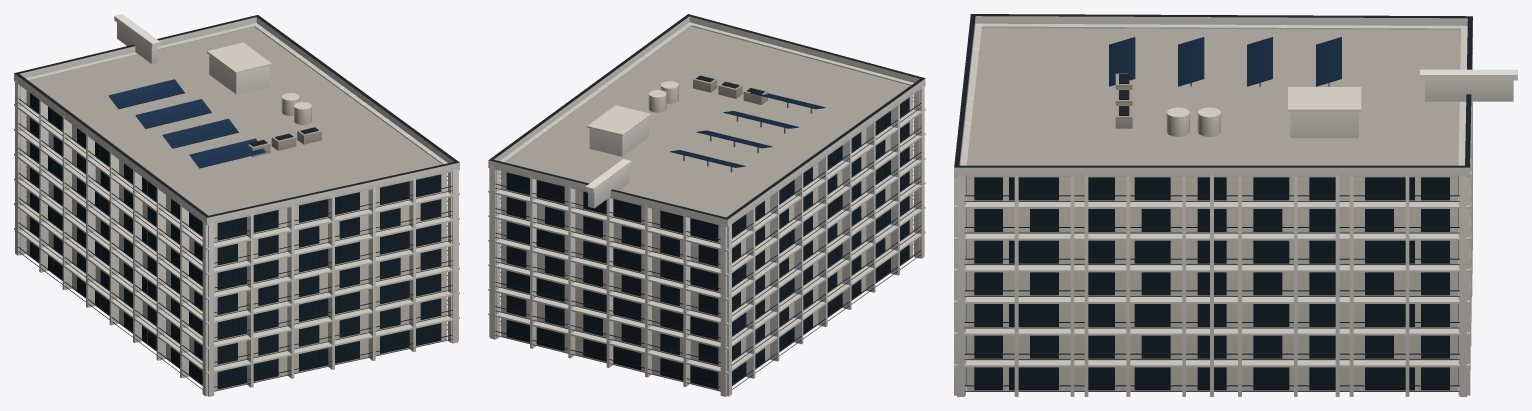
Rendered from vindhya_hostel.glb.
3 views of the same model, side by side, from view 1: azimuth 30°, elevation 25°; view 2: azimuth 150°, elevation 25°; view 3: azimuth 270°, elevation 25° (orthographic). The views are drawn at different scales.
Visible parts, largest first — view 1: LOD0_High_StuccoWhite, LOD0_High_RoofSlabConcrete, LOD0_High_RecessedCavityGlass, LOD0_High_StuccoWarmTrim, LOD0_High_DarkAnodizedSteel, LOD1_Medium_RecessedCavityGlass, LOD0_High_SolarPV; view 2: LOD0_High_StuccoWhite, LOD0_High_RoofSlabConcrete, LOD0_High_RecessedCavityGlass, LOD0_High_StuccoWarmTrim, LOD0_High_DarkAnodizedSteel, LOD1_Medium_RecessedCavityGlass, LOD0_High_SolarPV; view 3: LOD0_High_RoofSlabConcrete, LOD0_High_StuccoWhite, LOD0_High_RecessedCavityGlass, LOD0_High_StuccoWarmTrim, LOD0_High_DarkAnodizedSteel, LOD1_Medium_RecessedCavityGlass, LOD0_High_SolarPV, LOD1_Medium_StuccoWhite.
Part boxes in pixels (x1,y1,x2,y2): LOD0_High_StuccoWhite: (14,14,459,396); LOD0_High_RoofSlabConcrete: (29,27,441,215); LOD0_High_RecessedCavityGlass: (30,93,441,389); LOD0_High_StuccoWarmTrim: (26,42,447,390); LOD0_High_DarkAnodizedSteel: (14,15,459,391); LOD1_Medium_RecessedCavityGlass: (48,106,420,384); LOD0_High_SolarPV: (108,79,265,168); LOD0_High_StuccoWhite: (488,16,925,396); LOD0_High_RoofSlabConcrete: (505,26,910,217); LOD0_High_RecessedCavityGlass: (506,97,909,389); LOD0_High_StuccoWarmTrim: (500,81,913,390); LOD0_High_DarkAnodizedSteel: (488,14,925,391); LOD1_Medium_RecessedCavityGlass: (525,111,890,384); LOD0_High_SolarPV: (670,92,825,167); LOD0_High_RoofSlabConcrete: (967,28,1460,165); LOD0_High_StuccoWhite: (954,16,1517,396); LOD0_High_RecessedCavityGlass: (966,177,1458,390); LOD0_High_StuccoWarmTrim: (966,87,1458,391); LOD0_High_DarkAnodizedSteel: (954,14,1472,391); LOD1_Medium_RecessedCavityGlass: (1009,177,1414,390); LOD0_High_SolarPV: (1109,37,1341,86); LOD1_Medium_StuccoWhite: (1084,175,1339,396).
Size of the model in its own units: 32.74 by 24.97 by 50.72.
